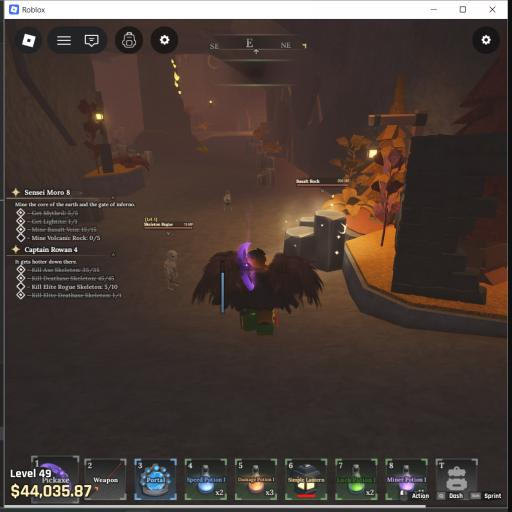player: (193, 243, 323, 335)
rock: (284, 210, 346, 271), (257, 157, 275, 186), (112, 144, 126, 160), (114, 127, 124, 140), (144, 151, 153, 165), (251, 144, 259, 155)
